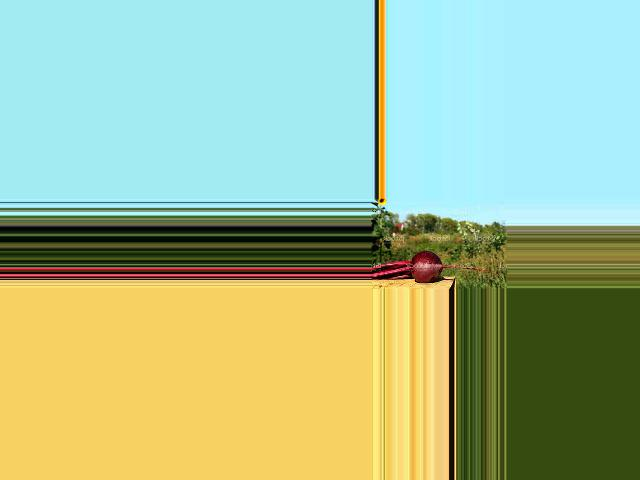beet: (370, 251, 502, 283)
